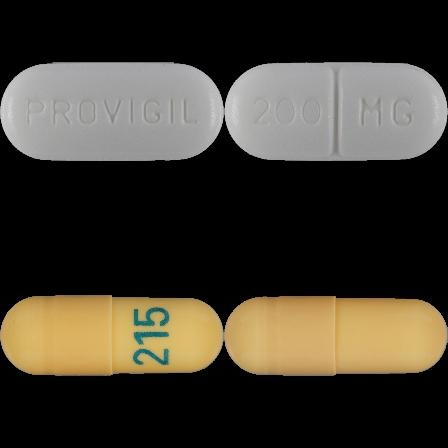50436-0201: (0, 0, 224, 224)
